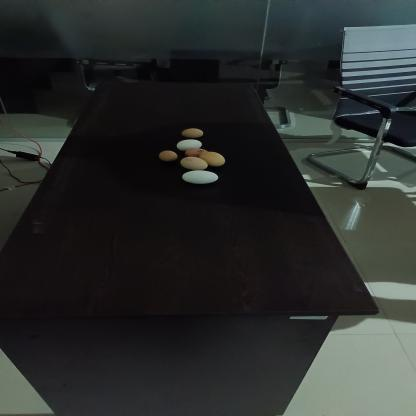egg: (180, 170, 218, 184), (178, 154, 210, 170), (198, 150, 227, 166), (174, 139, 204, 152), (180, 126, 206, 140), (155, 149, 180, 162), (184, 146, 203, 156)
